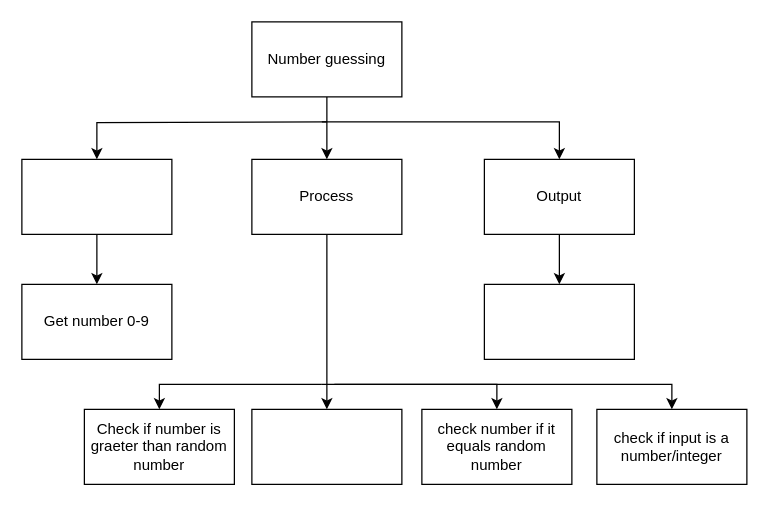
Some shapes in this 769 by 506 pixel diagram are drawn without their labels. The centre of each missing label's shape, as x and y in pixels:
check number if it is less than random number: pixel 326 446
Input: pixel 96 196
show awnser: pixel 558 321
